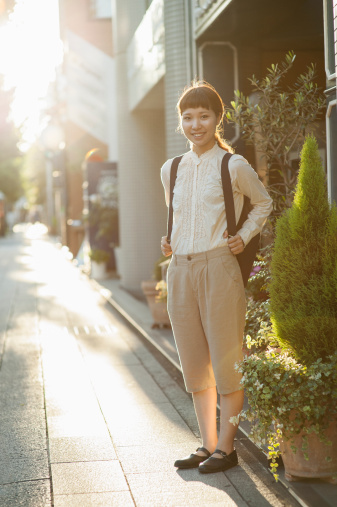em pe: (137, 77, 266, 485)
